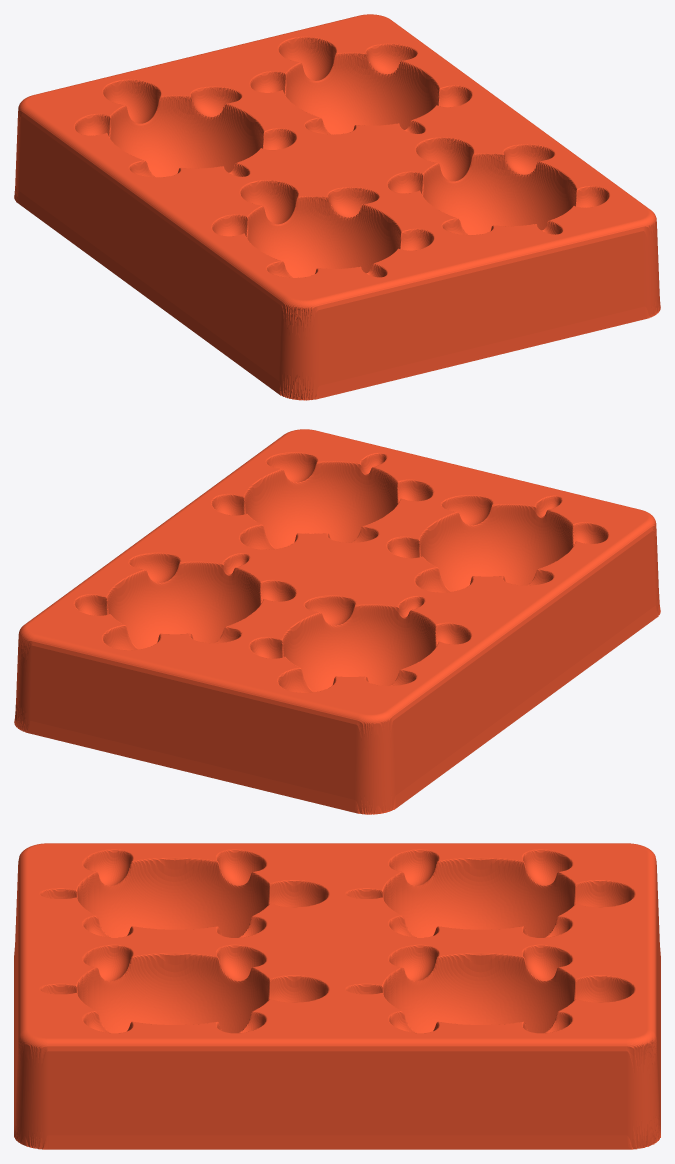
File: mold.glb
The picture shows the model from 3 angles, top to bottom: view 1: azimuth 30°, elevation 25°; view 2: azimuth 150°, elevation 25°; view 3: azimuth 270°, elevation 25°; orthographic projection. The views are drawn at different scales.
Visible parts, largest first — view 1: geometry_0; view 2: geometry_0; view 3: geometry_0.
Boxes of the visible parts, x1,y1,x2,y2 form: geometry_0: (14, 14, 660, 400); geometry_0: (14, 429, 660, 814); geometry_0: (14, 843, 660, 1149).
Bounding box in the file's own units: 0.1295 × 0.031 × 0.1721.
